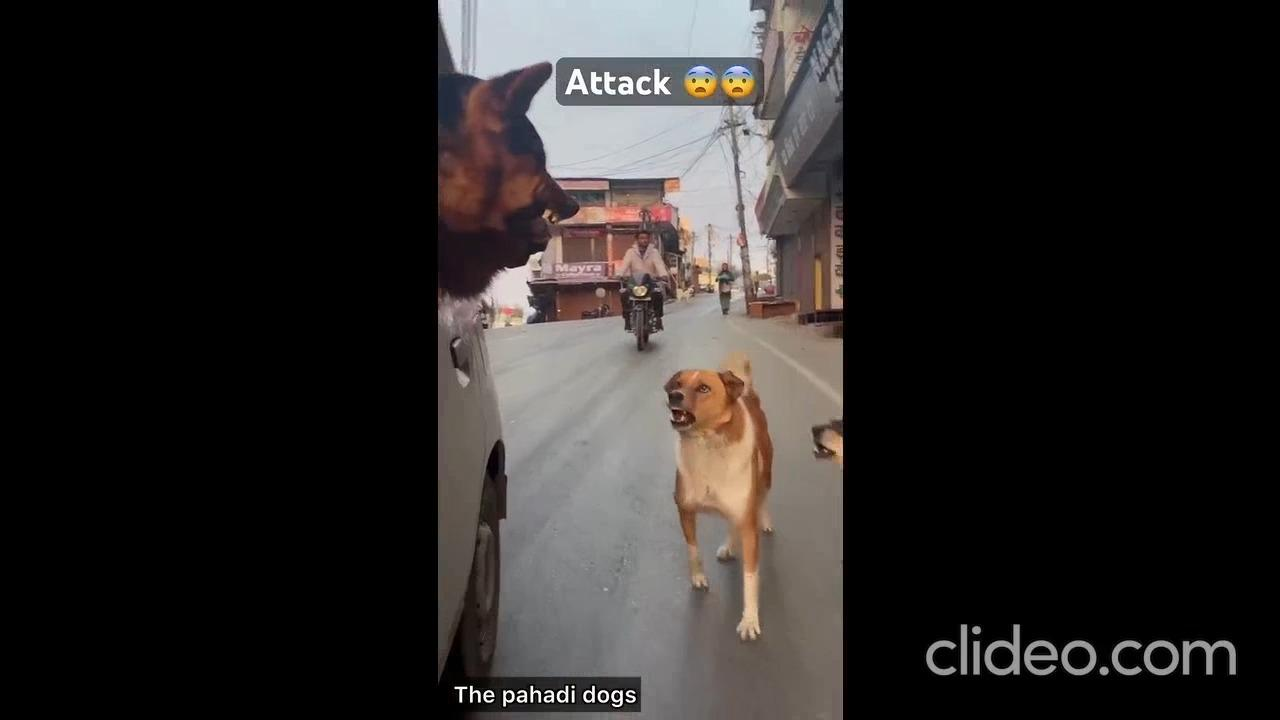dog: (646, 341, 777, 632)
